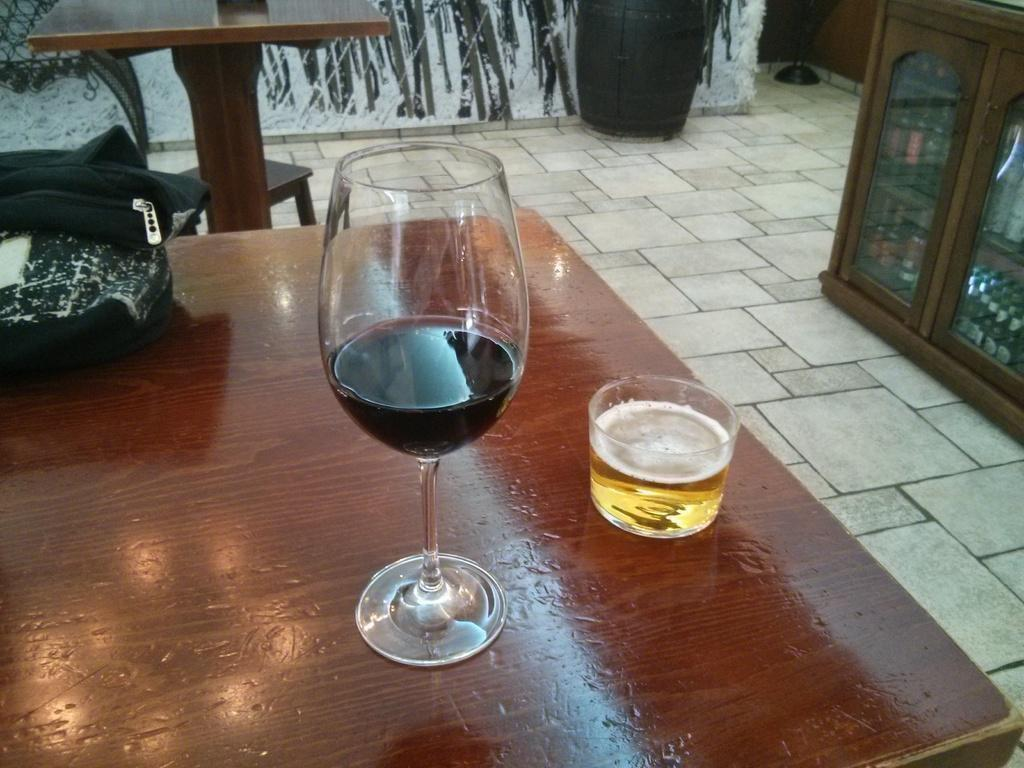glass-normal: (583, 373, 741, 543)
glass-wine: (314, 142, 529, 668)
